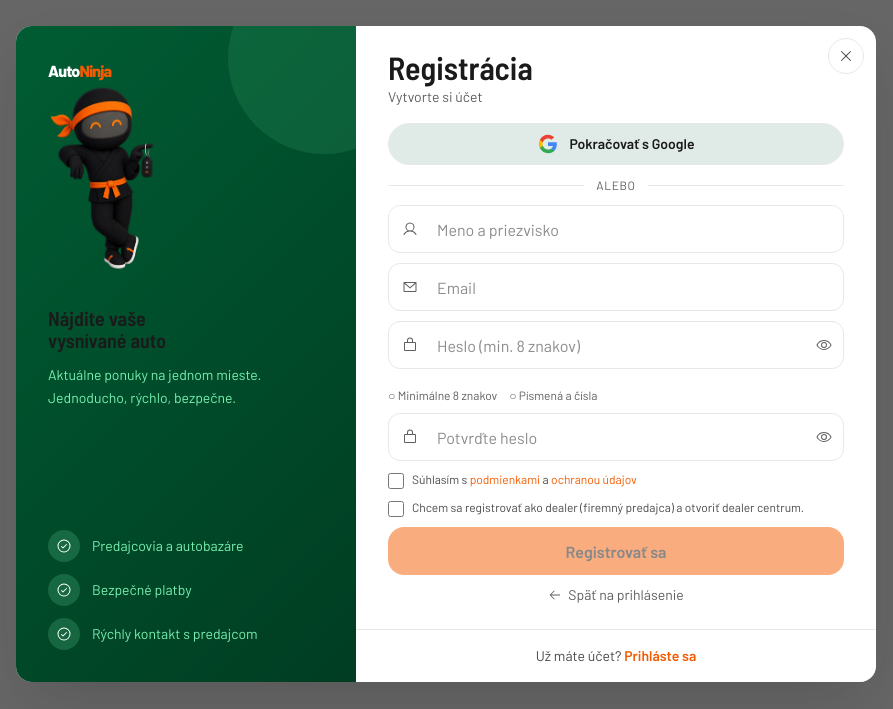
Scenario: AuthModal register password strength › shows strong strength when password is long and includes symbols
Type "Strong!1234" into the password field with id "auth-register-password" at (616, 345), box [388, 321, 844, 369]
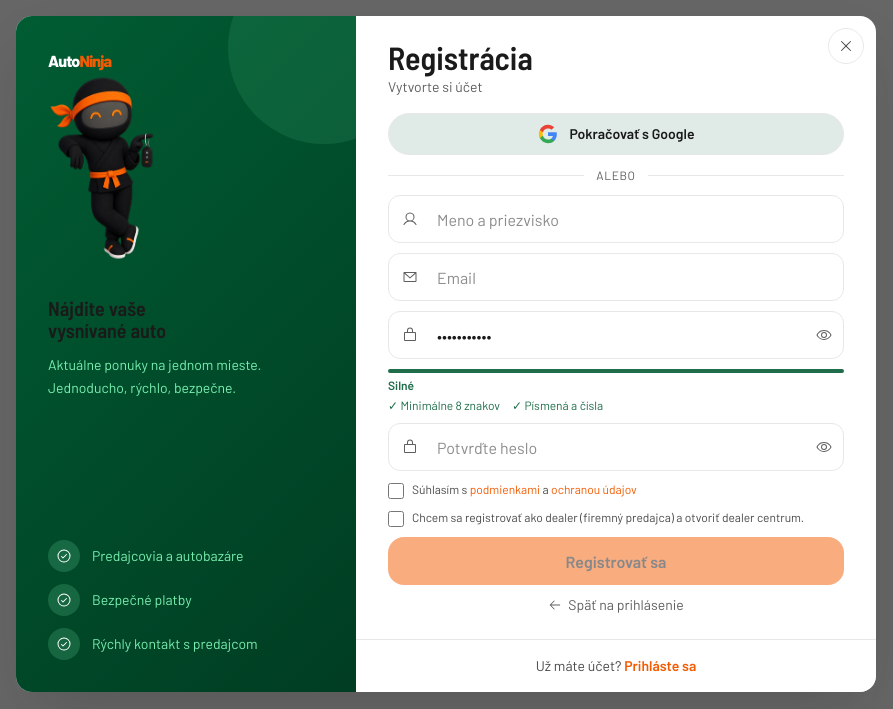
Expected: the text with test id "register-password-strength-label" reads "Silné", [388, 378, 414, 392]
Expected: the element with test id "register-password-strength-bar" is shown, [388, 369, 844, 373]
